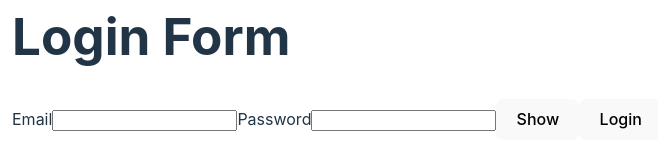
Scenario: LoginForm › toggles passwrod visibility
# click toggle button
Click the button "Show": x=538, y=120 [496, 99, 579, 140]
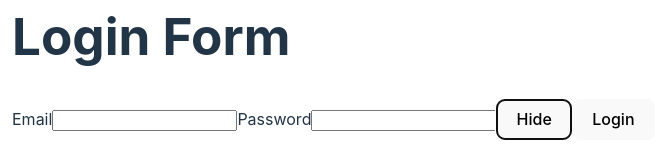
Check: the button named "Show" reads "Hide", box [496, 99, 572, 140]
